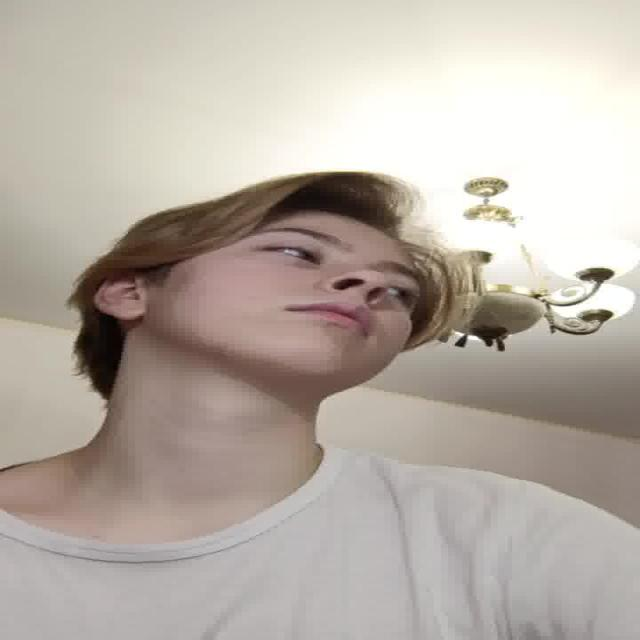earlobe: (92, 270, 148, 320)
